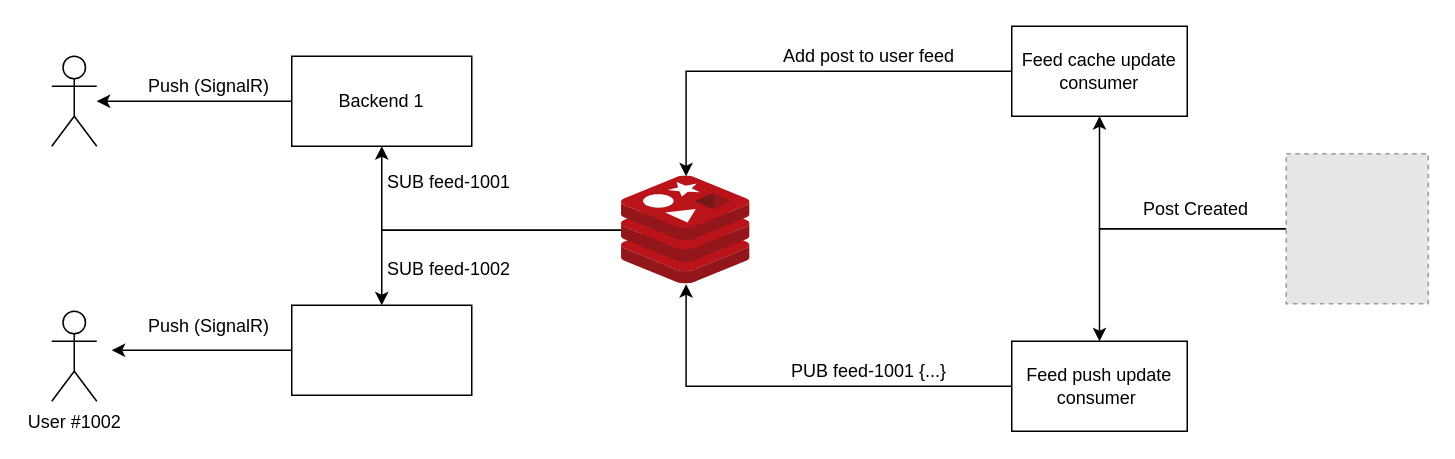
Some shapes in this 1455 by 459 pixel diagram are drawn without their labels. Grey dashed boxes stand in for pictures. The shapes that lost their labels are listed below. From the top down, each one's centre as x and y in pixels, then its label:
At (73,100): "User # 1001".
At (381,349): "Backend 2".
